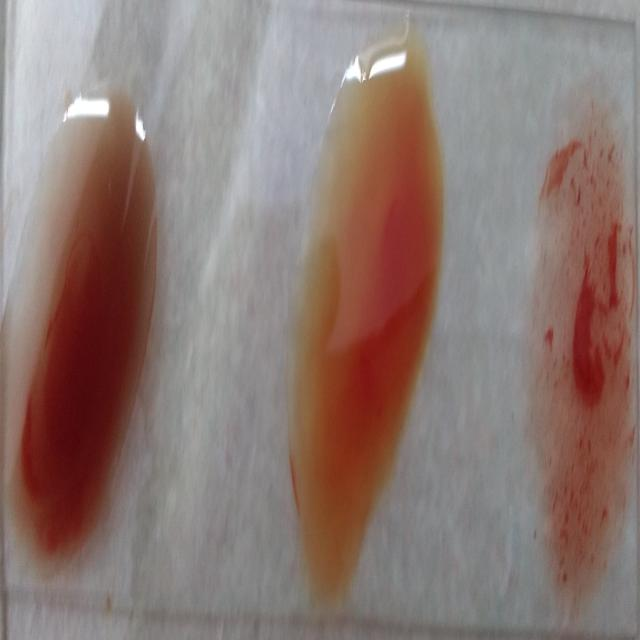D: (538, 116, 633, 596)
